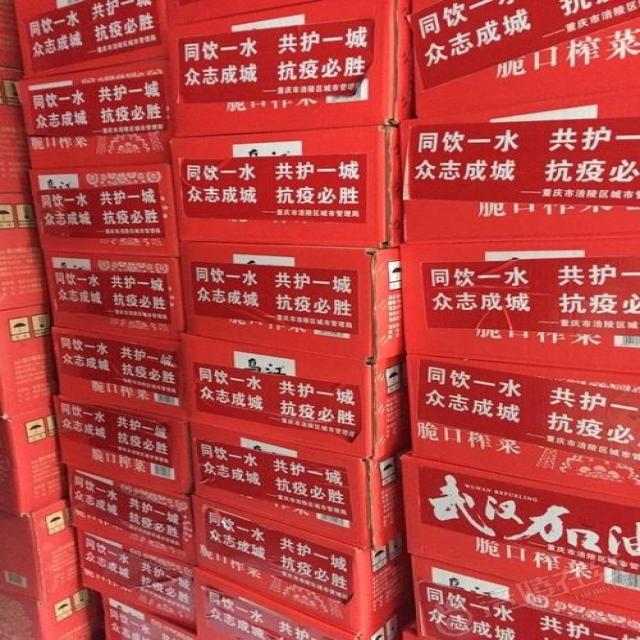box: (401, 453, 640, 613), (399, 85, 640, 242), (406, 352, 640, 501), (168, 0, 415, 136), (401, 238, 640, 374), (193, 494, 413, 637), (180, 332, 410, 461), (169, 126, 403, 249), (189, 420, 403, 550), (180, 242, 404, 363), (412, 0, 640, 117), (410, 553, 640, 640), (15, 57, 172, 169), (195, 567, 416, 640), (29, 162, 179, 257), (52, 396, 192, 496), (42, 251, 184, 341), (51, 327, 188, 420), (67, 465, 193, 565), (76, 528, 195, 632), (13, 0, 166, 79), (0, 497, 79, 604), (0, 405, 69, 516), (0, 588, 102, 640), (102, 594, 196, 640)
